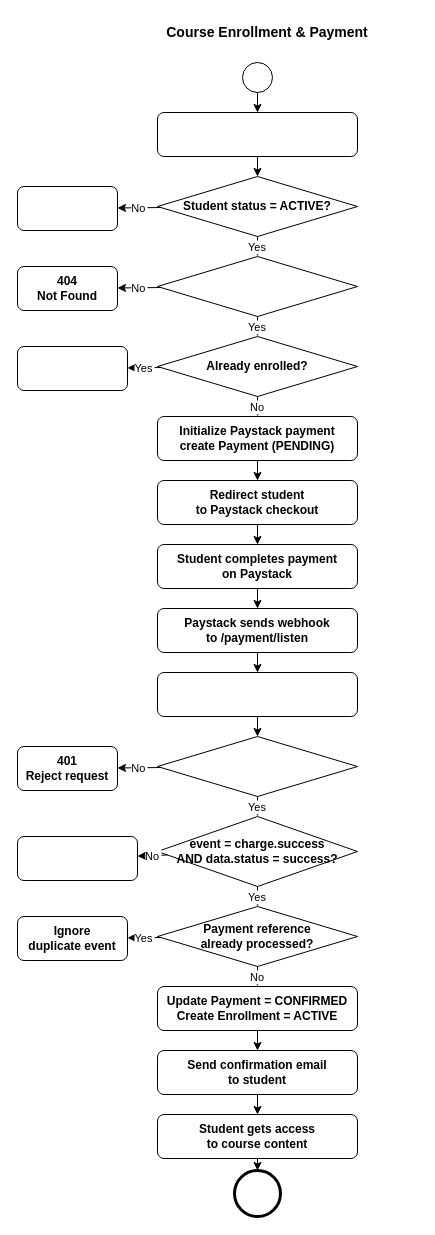
Some shapes in this 435 by 1235 pixel diagram are drawn without their labels. Here are the shapes that lost their labels. From the top down, the centre of each, then its label:
At point (257, 134): "Student clicks Enroll".
At point (67, 208): "403 Forbidden".
At point (257, 286): "Course status = PUBLISHED?".
At point (72, 368): "409 Already enrolled".
At point (257, 694): "Verify HMAC SHA512 signature".
At point (257, 766): "Signature valid?".
At point (77, 858): "Update Payment status = FAILED".
